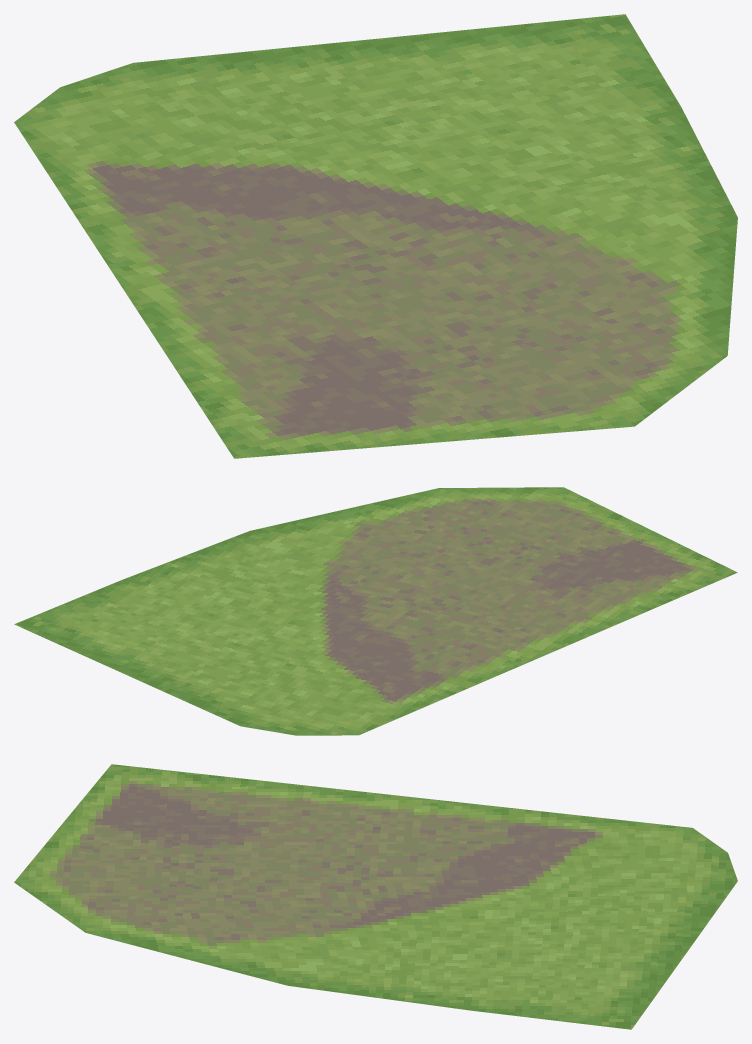
Rendered from kd_stage_1366d7_3_15_bounded.glb.
The picture shows the model from 3 angles, top to bottom: view 1: azimuth 30°, elevation 25°; view 2: azimuth 150°, elevation 25°; view 3: azimuth 270°, elevation 25°; orthographic projection. The views are drawn at different scales.
Visible parts, largest first — view 1: kd_stage_1366d7_3_15_bounded; view 2: kd_stage_1366d7_3_15_bounded; view 3: kd_stage_1366d7_3_15_bounded.
Part boxes in pixels (x1,y1,x2,y2): kd_stage_1366d7_3_15_bounded: (14, 14, 737, 458); kd_stage_1366d7_3_15_bounded: (14, 487, 737, 735); kd_stage_1366d7_3_15_bounded: (14, 764, 737, 1029).
Bounding box in the file's own units: 82.37 × 7.72e-05 × 94.88.
Materials: 1 (1 with a texture image).
